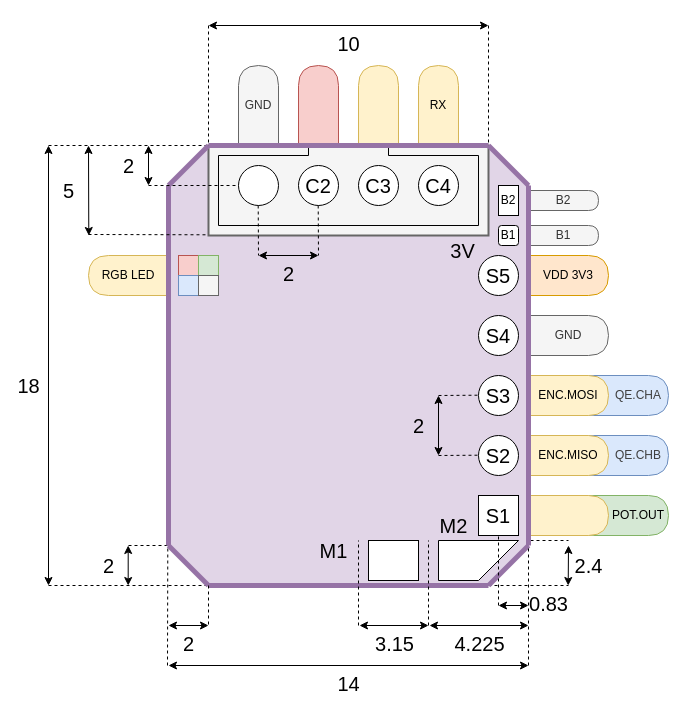
Image size: 686x714. Some labels were removed from this diagram. The shapes that lost their labels are listed below. From the top down, each one's box as (x1, y1, x2, y2) in pixels, then its label:
(298, 64, 338, 146): VCC
(358, 64, 398, 146): TX
(238, 164, 278, 206): C1
(528, 494, 608, 536): ENC.CLK
